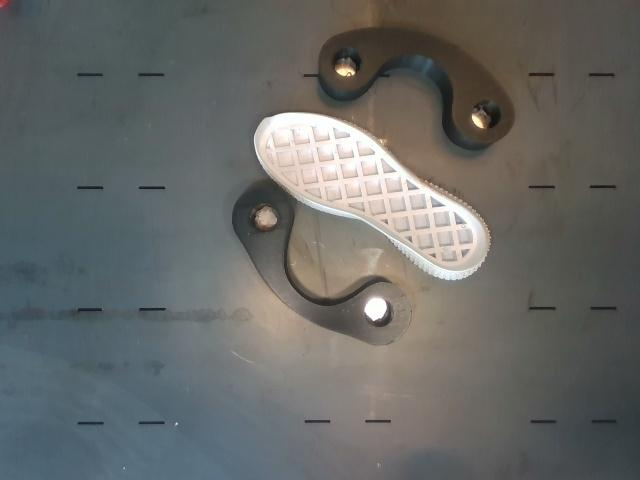shoes: (255, 115, 487, 272)
